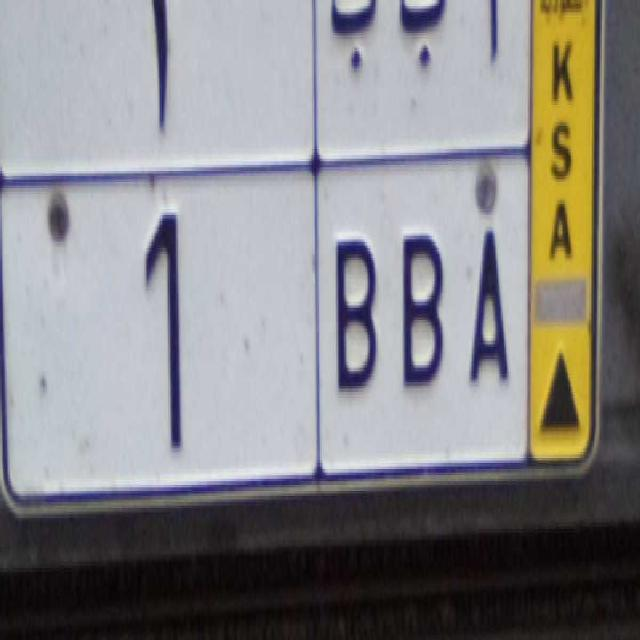license_plate: (2, 157, 532, 492)
